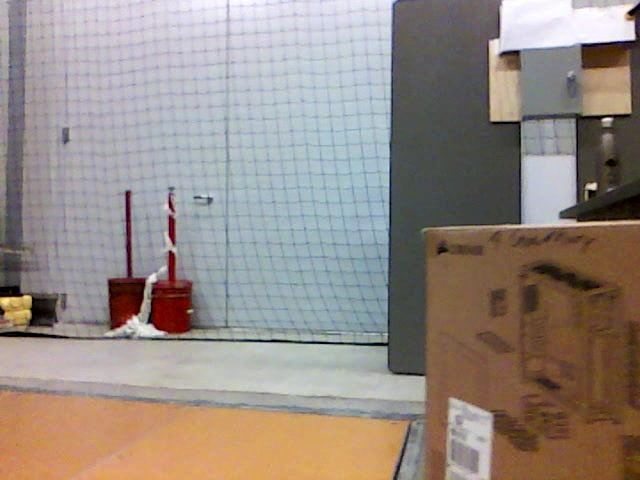box: (426, 221, 639, 480)
